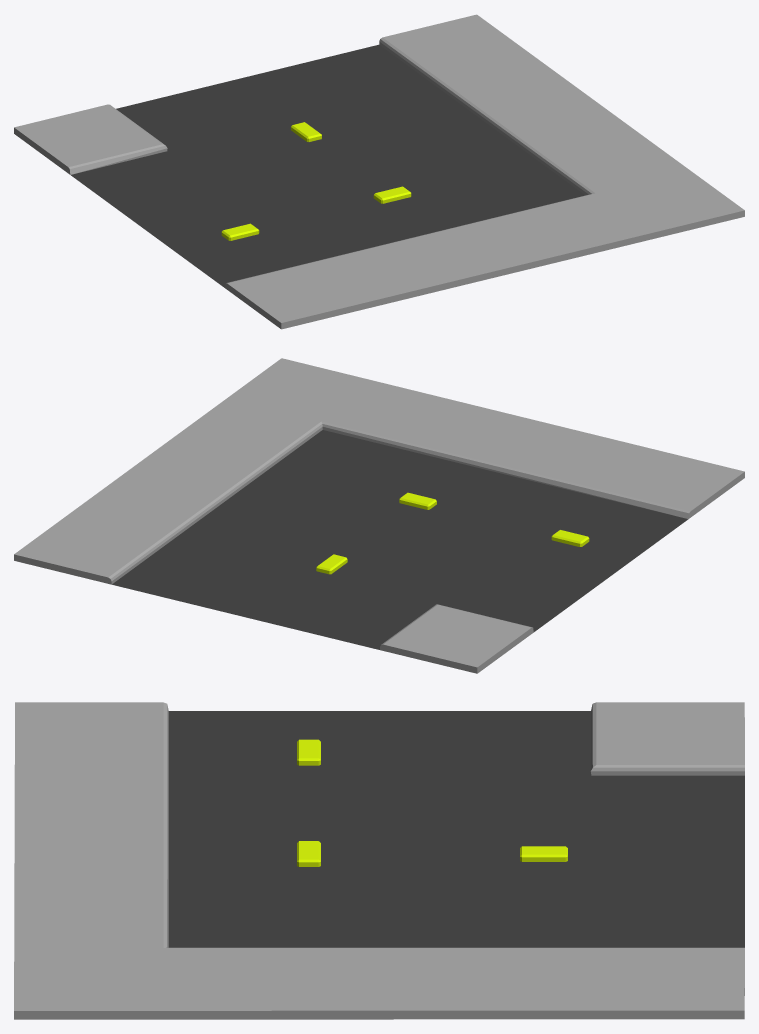
File: RightTurnRoad.fbx
3 renders of one model, top to bottom at view 1: azimuth 30°, elevation 25°; view 2: azimuth 150°, elevation 25°; view 3: azimuth 270°, elevation 25°, orthographic. The views are drawn at different scales.
Parts seen in each view (by area): view 1: pCube89; view 2: pCube89; view 3: pCube89.
Part boxes in pixels (bbox=[...]): pCube89: bbox=[14, 14, 744, 329]; pCube89: bbox=[14, 358, 744, 673]; pCube89: bbox=[14, 702, 744, 1019].
Size of the model in its own units: 1521 by 35.03 by 1523.
